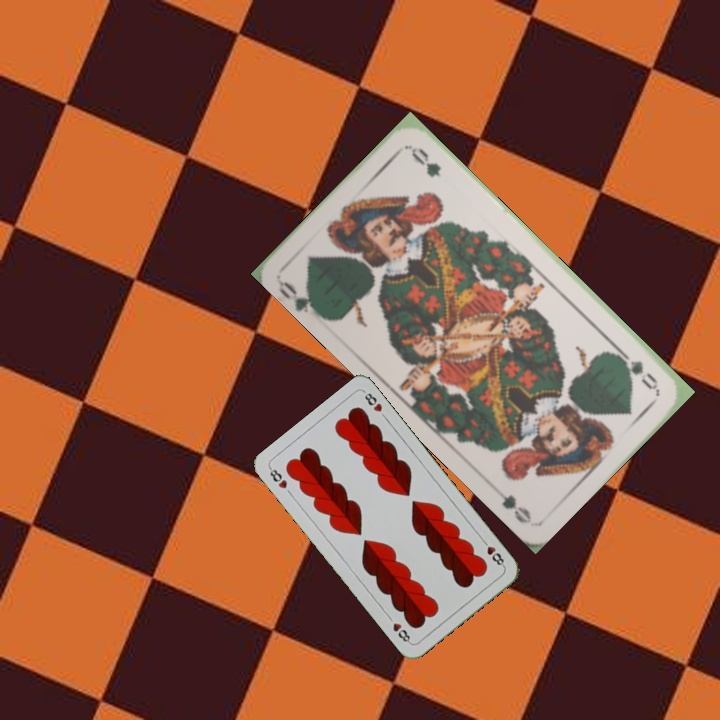GO: (611, 346, 661, 394), (274, 277, 325, 320)
H8: (478, 535, 507, 570), (265, 464, 290, 491)
